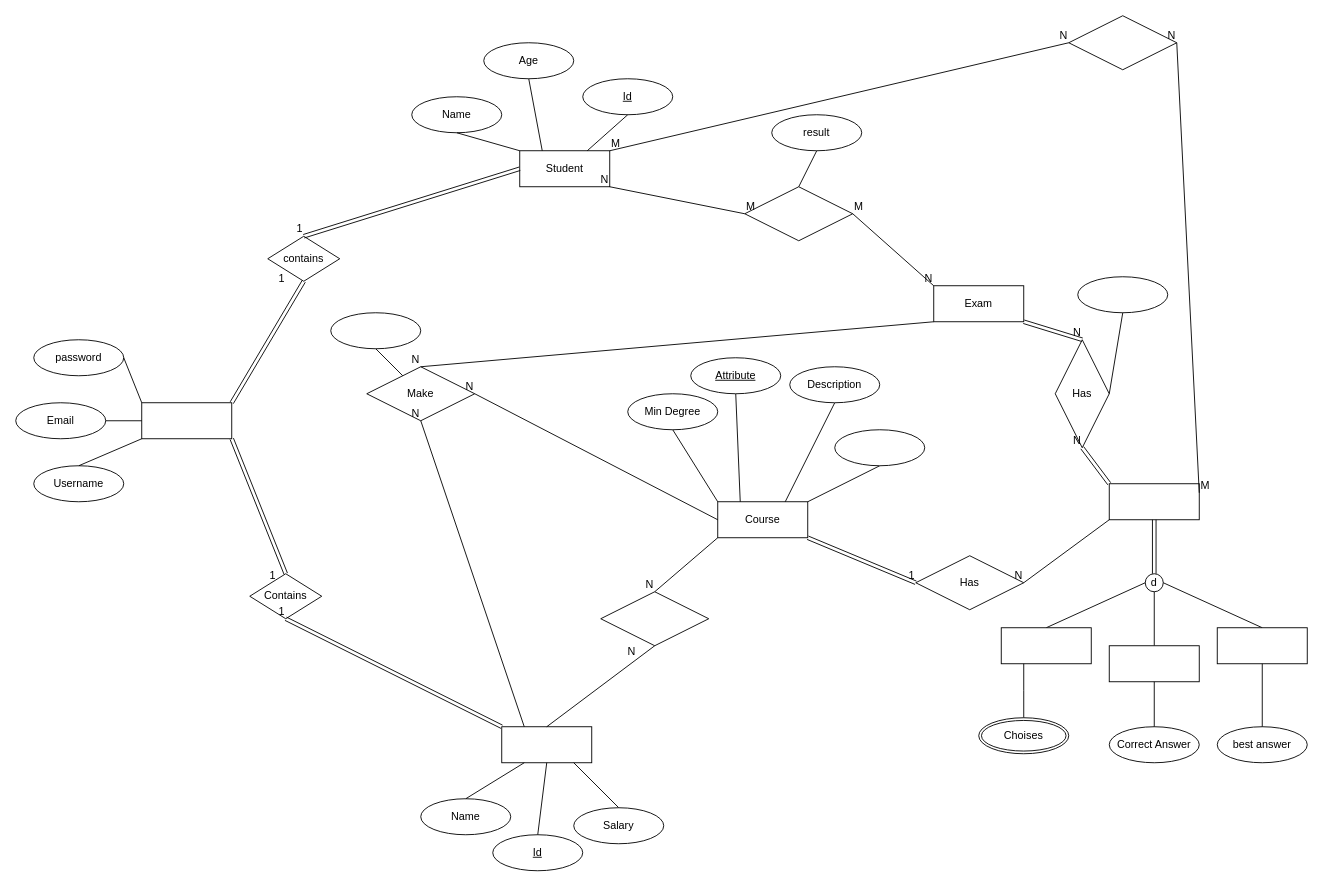
This 1323x887 diagram has some shape labels left out. The shapes that lost their labels are listed below. From the top down, each one's centre as x and y in pixels, then its label:
At (x=1122, y=42): "answer".
At (x=798, y=213): "do".
At (x=1122, y=294): "Degree".
At (x=375, y=330): "year".
At (x=186, y=420): "Acount".
At (x=879, y=447): "Max Degree".
At (x=1153, y=501): "Questions".
At (x=654, y=618): "Teach".
At (x=1045, y=645): "MCQ".
At (x=1153, y=663): "True & False".
At (x=1261, y=645): "text".
At (x=546, y=744): "Instructor".
